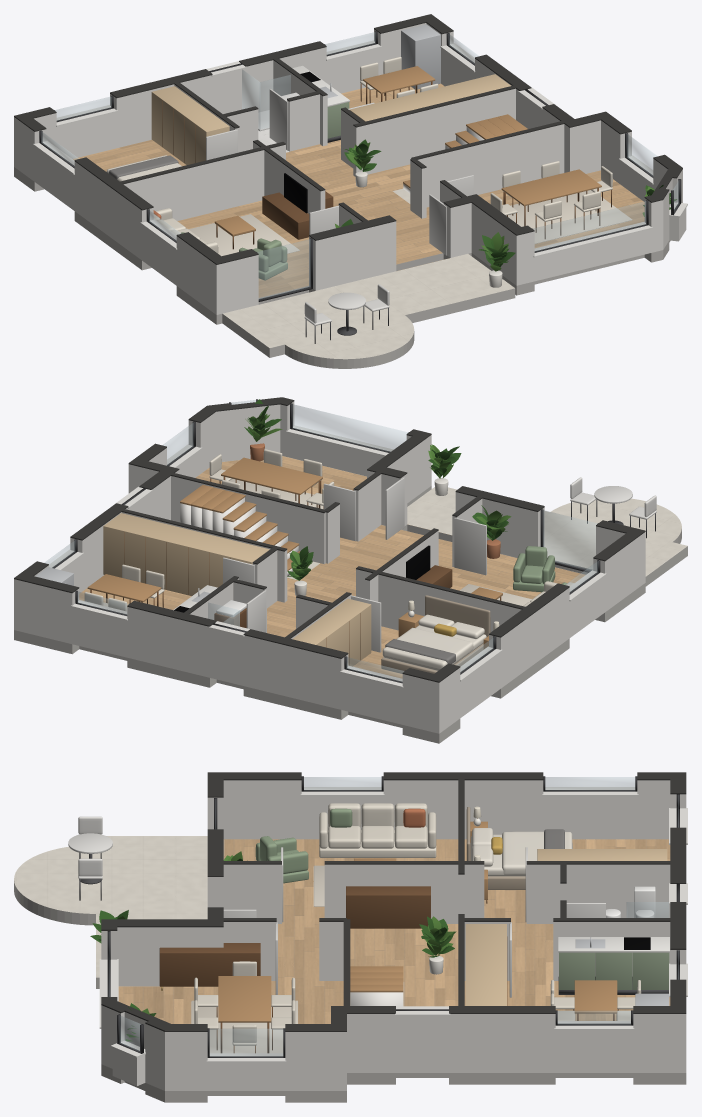
3 views of the same model, one above another, from view 1: azimuth 30°, elevation 25°; view 2: azimuth 150°, elevation 25°; view 3: azimuth 270°, elevation 25° (orthographic). The views are drawn at different scales.
Parts seen in each view (by area): view 1: walls, floor, caps, Cube.080, Cube.136, sill.009, Cube.040, Cube.028, Cube.108, sill, Cube.137, Cube.098 (+23 smaller); view 2: walls, floor, caps, Cube.108, Cube.080, Cube.040, Cube.028, sill, sill.009, sill.003, Cube.137, Cube.073 (+22 smaller); view 3: walls, floor, caps, sill.001, Cube.135, Cube.108, Cube.150, sill.004, sill.005, Cube.137, Cube.136, sill.007 (+31 smaller).
Boxes of the visible parts, box(x1,y1,x2,y2) form: walls: box(14, 23, 682, 314); floor: box(14, 83, 670, 368); caps: box(14, 14, 682, 264); Cube.080: box(151, 86, 229, 164); Cube.136: box(506, 190, 632, 243); sill.009: box(534, 229, 651, 281); Cube.040: box(533, 201, 646, 251); Cube.028: box(257, 239, 310, 299); Cube.108: box(350, 74, 510, 121); sill: box(56, 112, 116, 158); Cube.137: box(501, 169, 601, 205); Cube.098: box(401, 24, 440, 89); walls: box(14, 401, 645, 733); floor: box(14, 456, 687, 743); caps: box(14, 397, 645, 682); Cube.108: box(103, 513, 269, 596); Cube.080: box(292, 598, 371, 666); Cube.040: box(292, 404, 407, 451); Cube.028: box(543, 510, 597, 570); sill: box(341, 673, 402, 724); sill.009: box(287, 433, 384, 476); sill.003: box(72, 607, 127, 657); Cube.137: box(221, 457, 322, 494); Cube.073: box(382, 627, 473, 669); walls: box(101, 780, 686, 1090); floor: box(14, 836, 686, 1102); caps: box(101, 772, 686, 1031); sill.001: box(543, 796, 637, 839); Cube.135: box(346, 886, 430, 928); Cube.108: box(465, 924, 506, 1005); Cube.150: box(159, 943, 260, 986); sill.004: box(555, 1030, 633, 1072); sill.005: box(396, 1016, 448, 1072); Cube.137: box(218, 976, 271, 1022); Cube.136: box(191, 1000, 297, 1053); sill.007: box(207, 1063, 285, 1090).
Size of the model in its own units: 11.56 by 1.58 by 12.67.
Materials: 32 (1 with a texture image).
